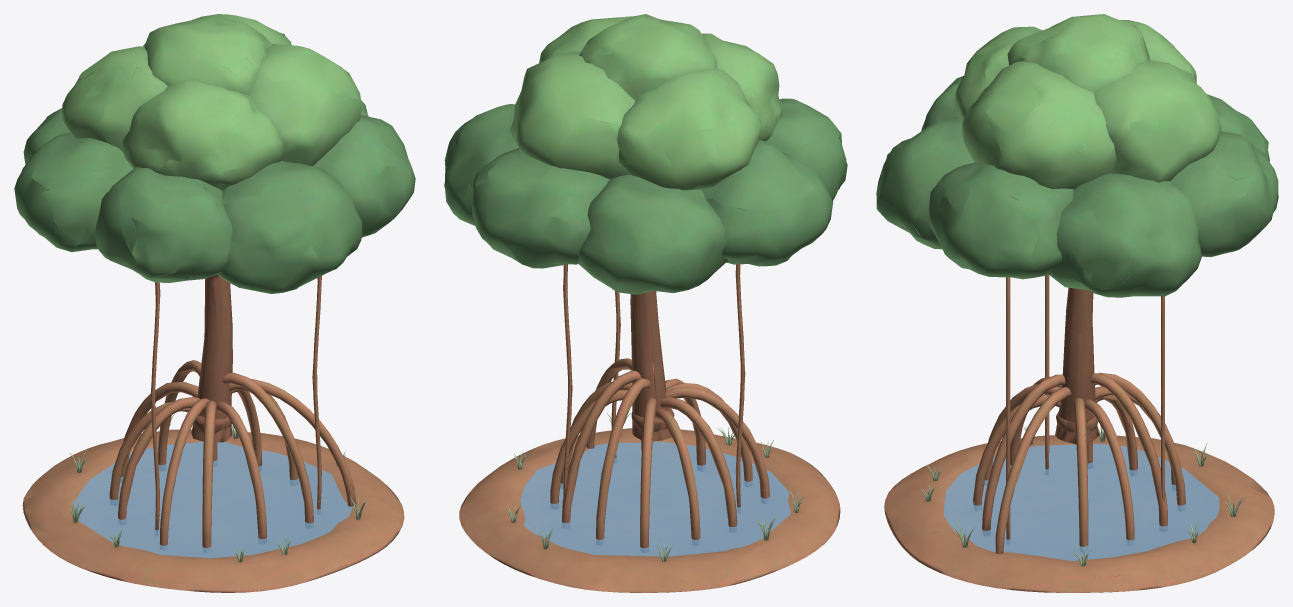
Rendered from mangle.glb.
3 views of the same model, side by side, from view 1: azimuth 30°, elevation 25°; view 2: azimuth 150°, elevation 25°; view 3: azimuth 270°, elevation 25° (orthographic).
Visible parts, largest first — view 1: mangrove-tree_body; view 2: mangrove-tree_body; view 3: mangrove-tree_body.
Part boxes in pixels (x1,y1,x2,y2): mangrove-tree_body: (14,14,415,592); mangrove-tree_body: (444,14,847,592); mangrove-tree_body: (876,14,1278,592).
Bounding box in the file's own units: 4.4 × 5.74 × 4.28.
Materials: 2 (1 with a texture image).
